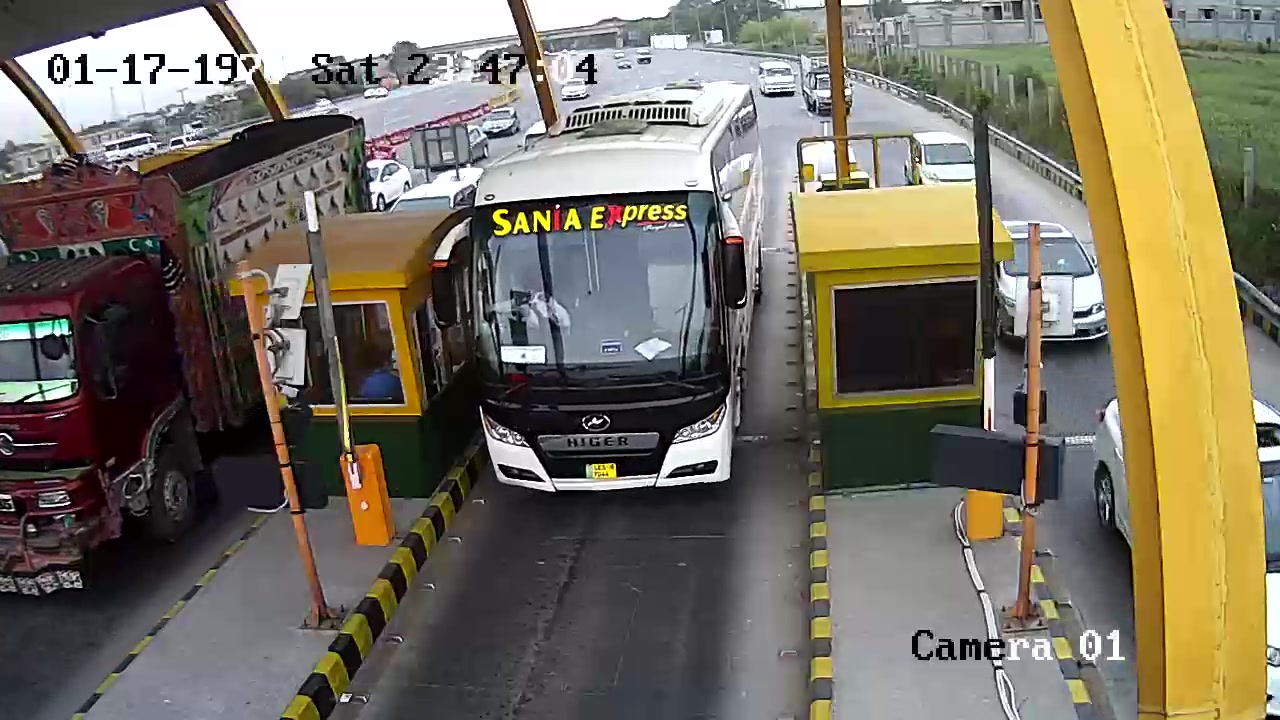F4: (473, 72, 779, 504)
